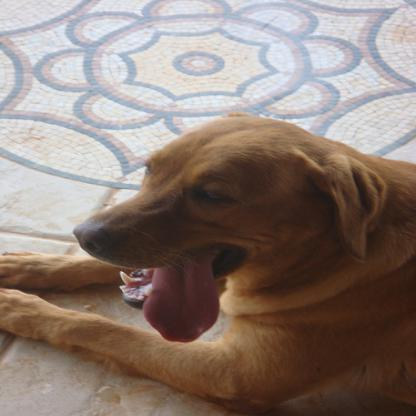dog: (0, 109, 415, 413)
